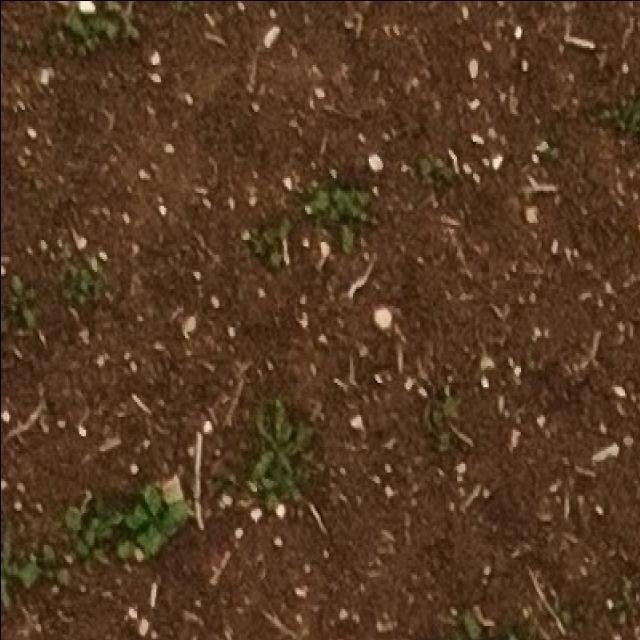cirse: (229, 387, 294, 470), (241, 380, 303, 465), (237, 386, 299, 465)
